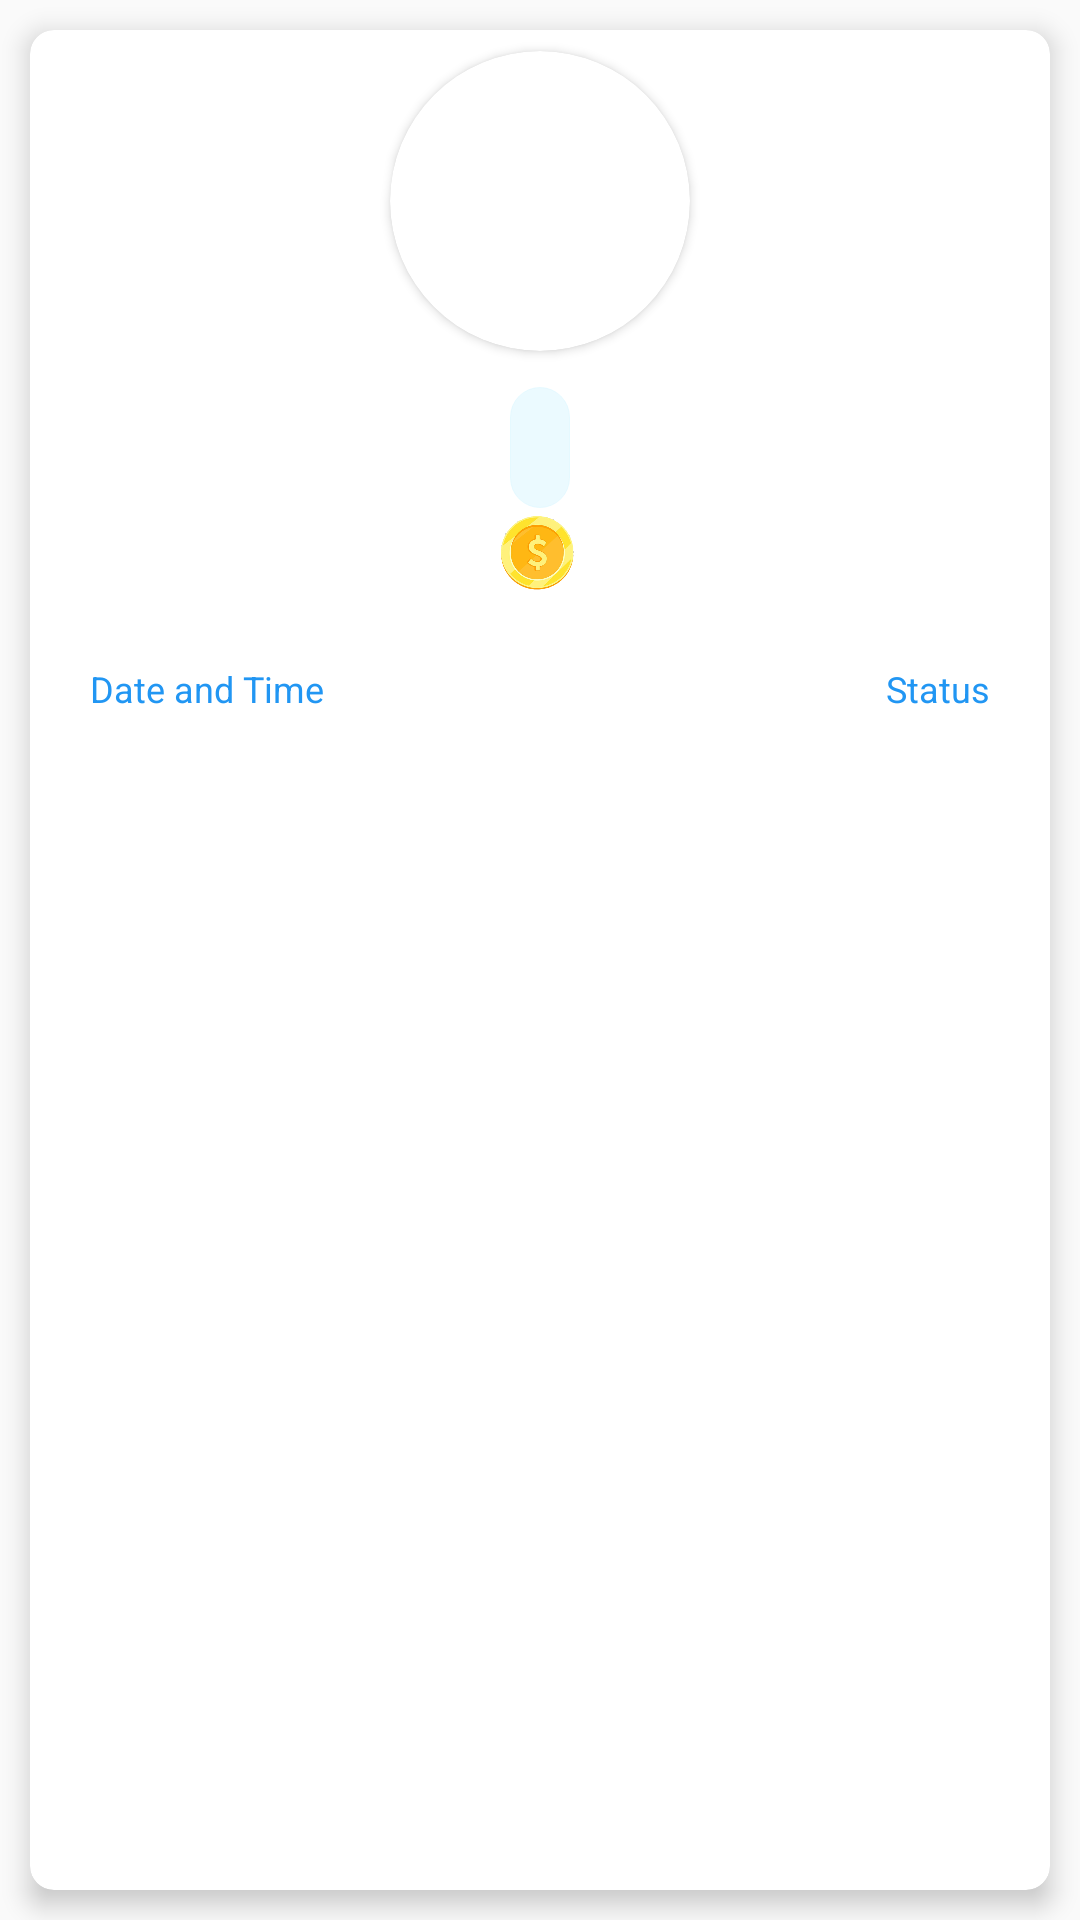

Screen size 1080x1920. Icon name, then its box in pixels as rect(x1, y1, x2, y2):
geniecoin: rect(501, 516, 574, 590)
